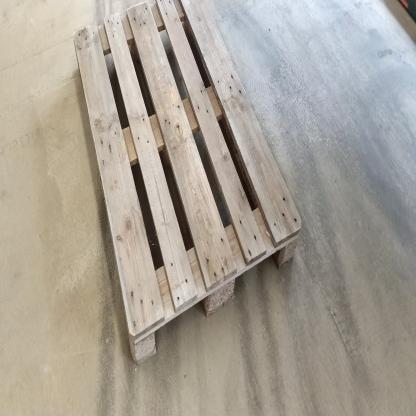BoxFace: (67, 1, 307, 373)
